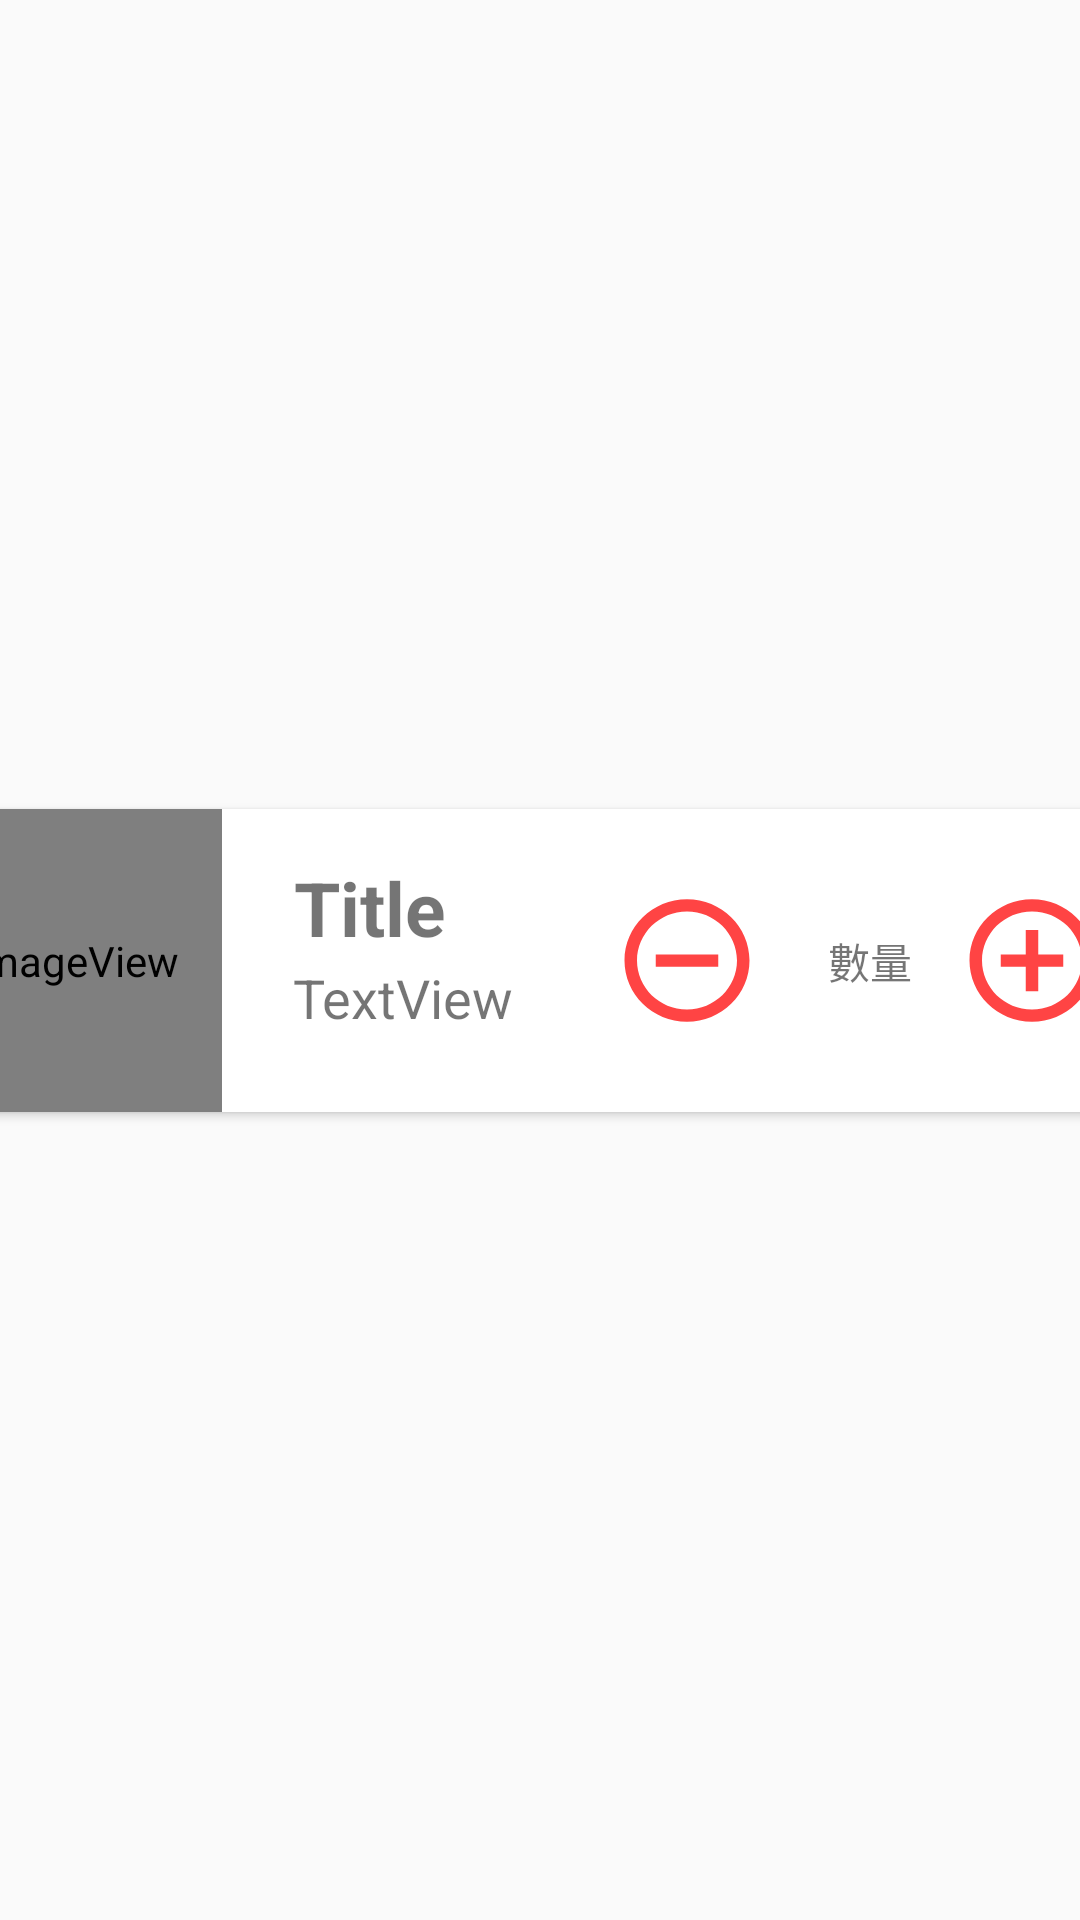

Icon bounding boxes for this 1080x1920 phone screenshot, format (x1, y1, x2, y2):
remove circle: (624, 899, 750, 1022)
